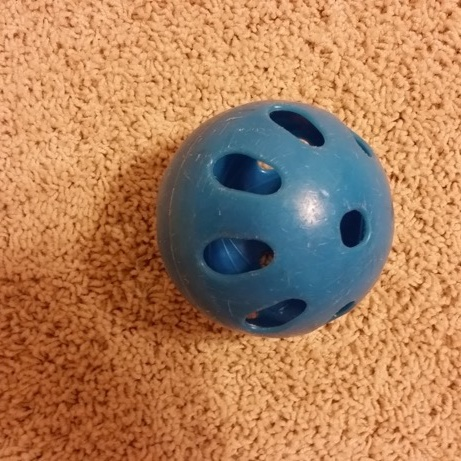blueball: (150, 92, 401, 344)
